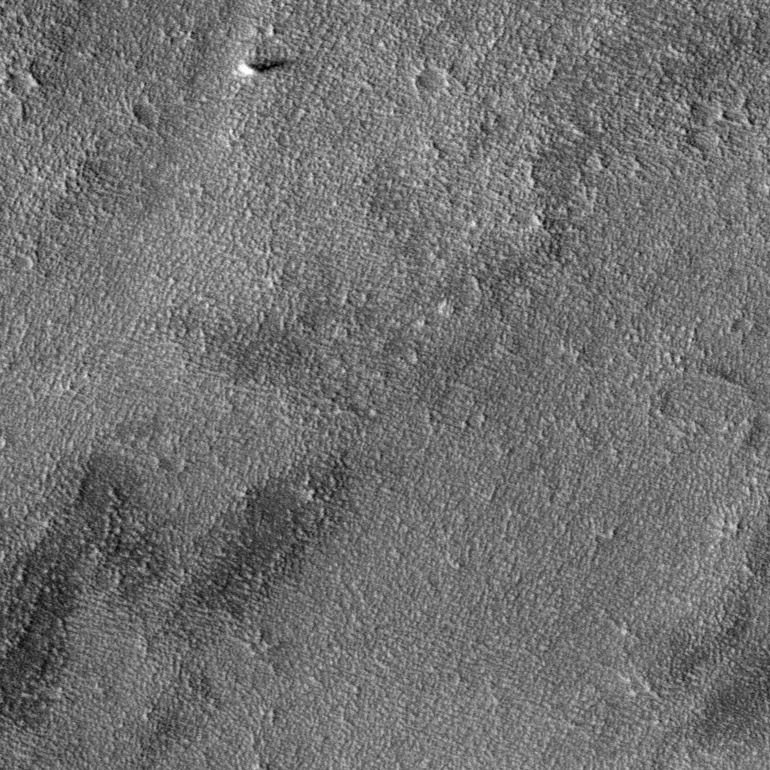dust_devil: (233, 56, 294, 76)
